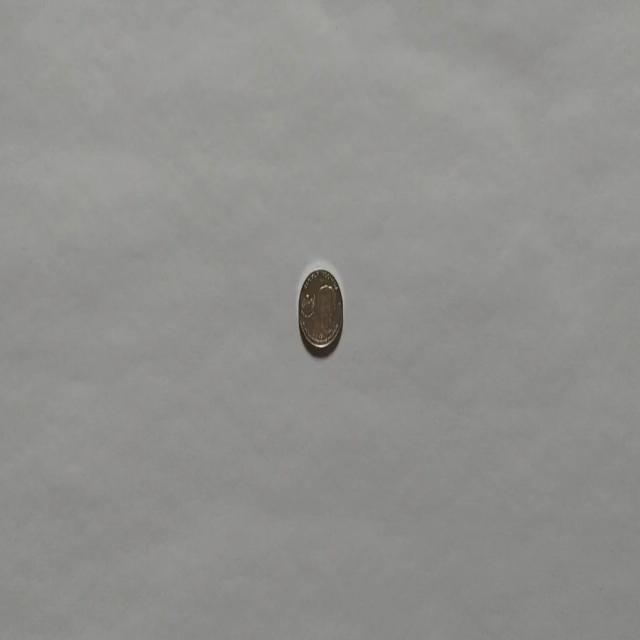seratus rupiah: (297, 266, 343, 352)
